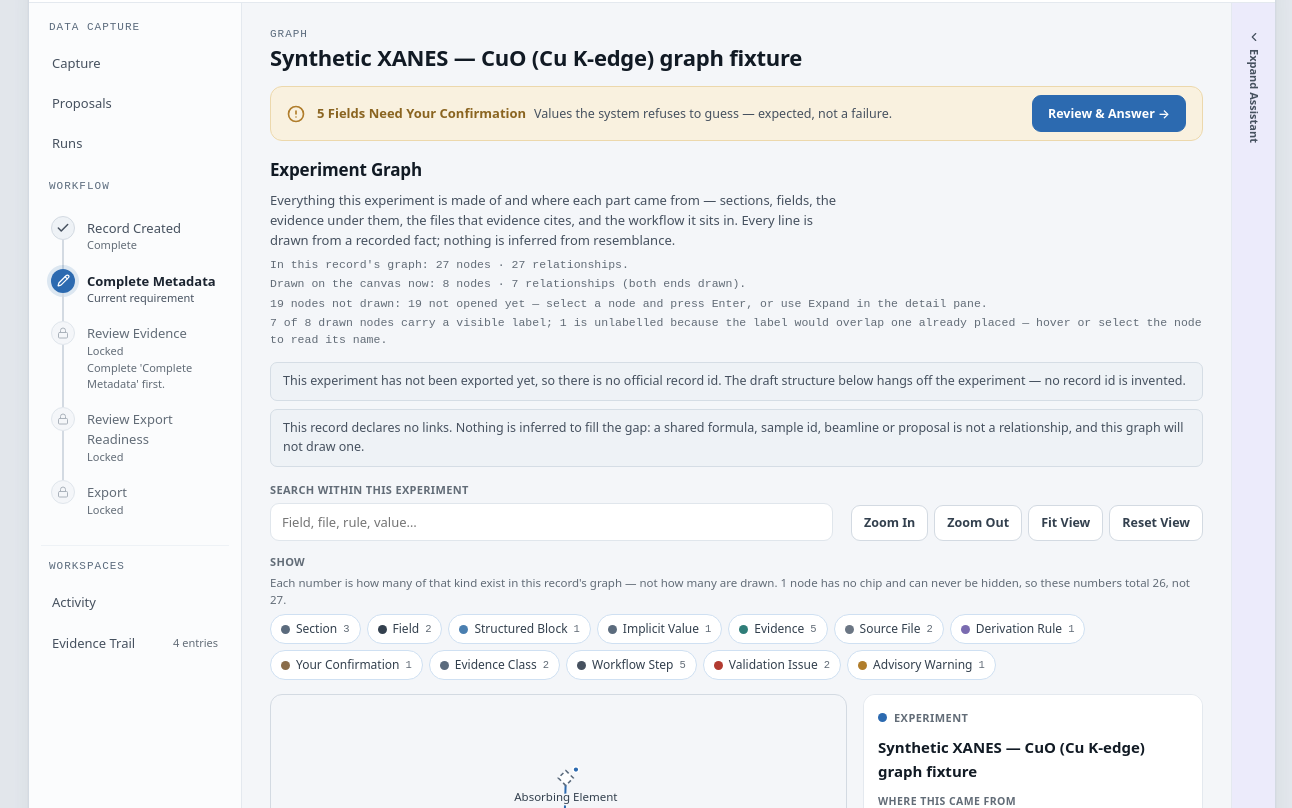
Test: the graph draws an experiment, and explains itself › names the evidence source, the file and the locator — never a bare code
The width and height of the screenshot is (1292, 808).
Expected: the heading "Experiment Graph" is shown, [270,158,422,181]
Type "system.technique" into the search field labelled "Search within this experiment" at (552, 522), box [270,502,833,541]
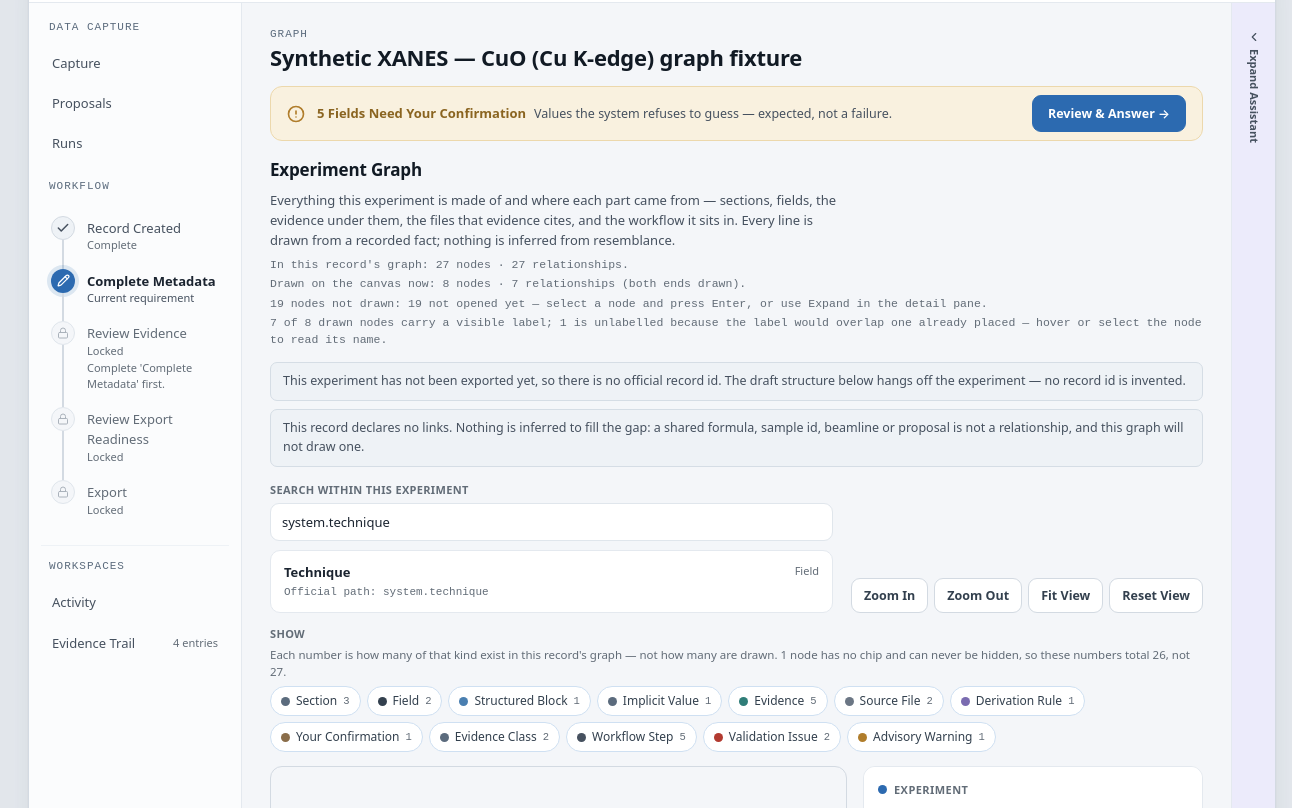
Click the option "Technique Field Official path: system.technique" at (317, 572), box [275,555,828,608]
(page scrolled)
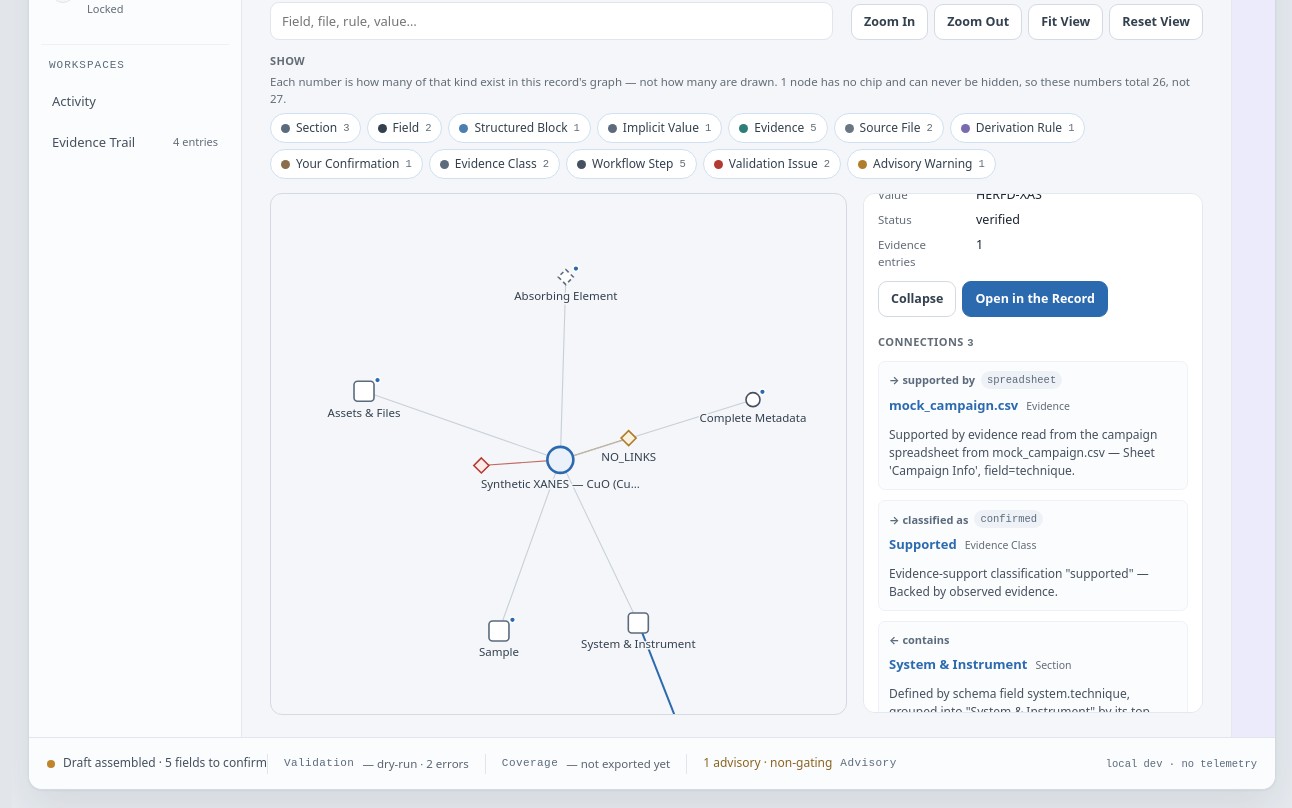
Now the text "Supported by evidence read from the campaign spreadsheet from mock_campaign.csv" is shown, box [889,426,1157,479]
